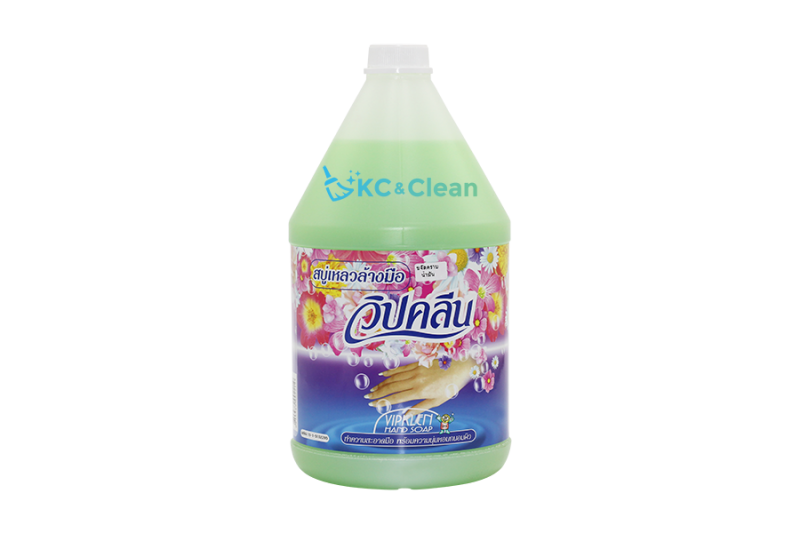Cleaning_solution: (283, 39, 519, 498)
